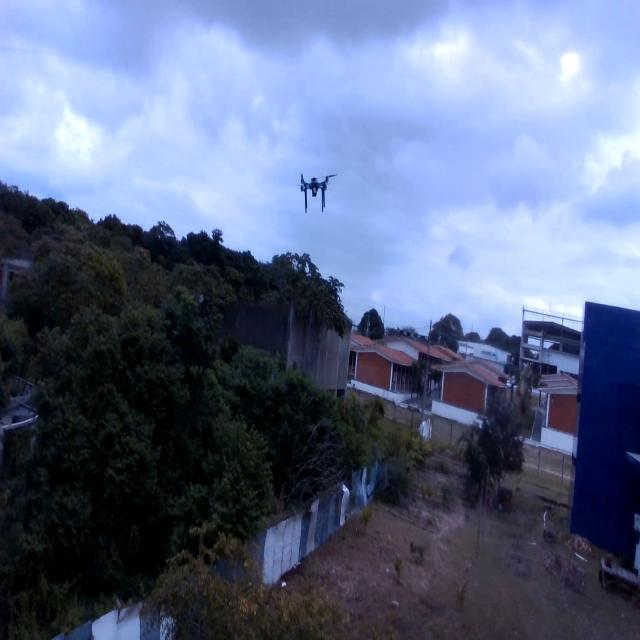-uav-: (289, 160, 342, 218)
